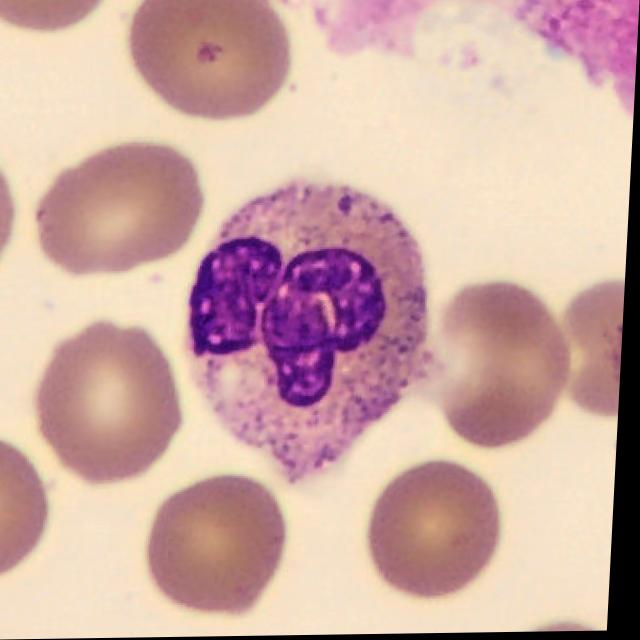Neutrofilo segmentado: (188, 183, 437, 484)
